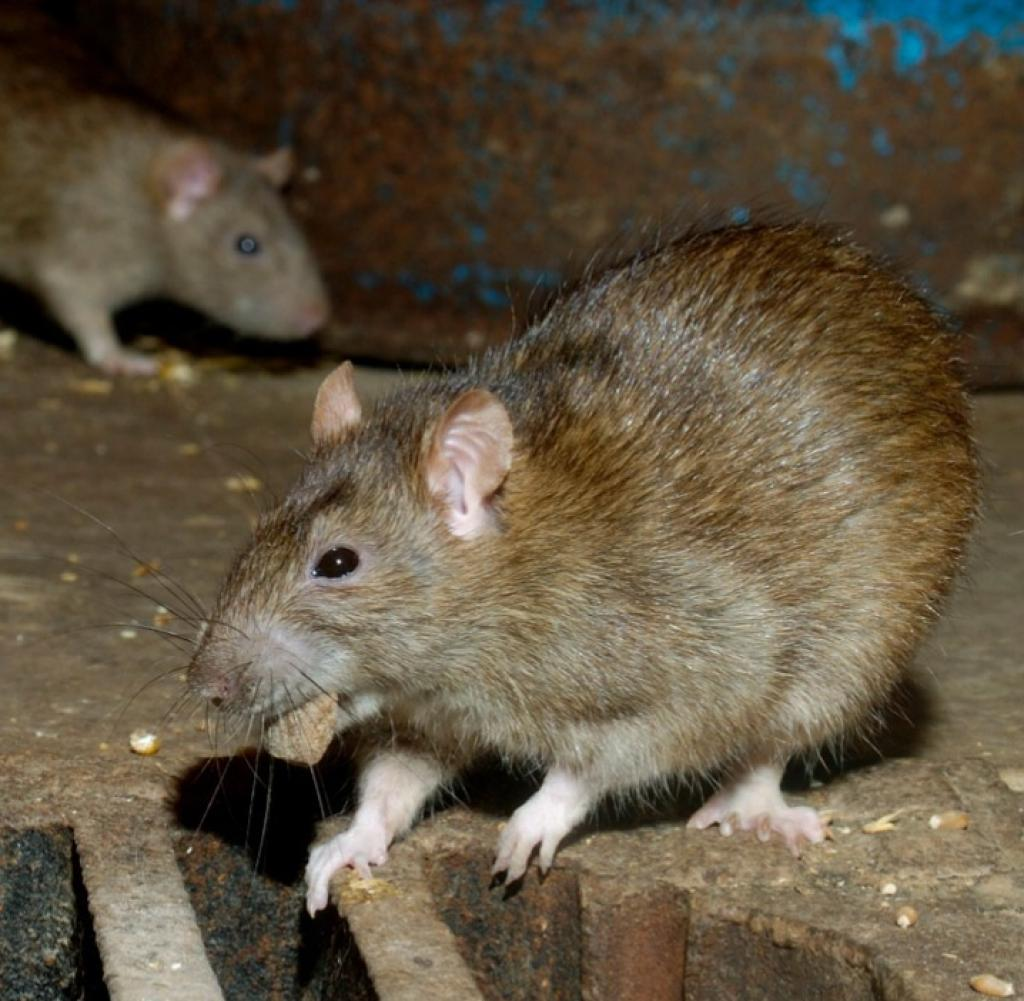rat: (154, 202, 987, 919)
